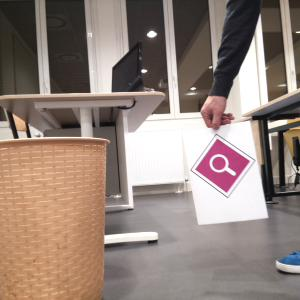search: (190, 133, 256, 197)
